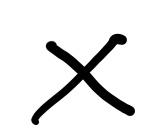mult: (33, 34, 135, 120)
